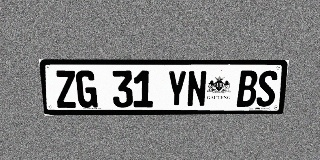1: (133, 70, 153, 107)
3: (112, 70, 133, 108)
B: (236, 70, 258, 107)
G: (75, 70, 98, 108)
N: (187, 70, 207, 107)
S: (256, 70, 278, 107)
Y: (167, 70, 187, 107)
Z: (54, 70, 77, 108)
